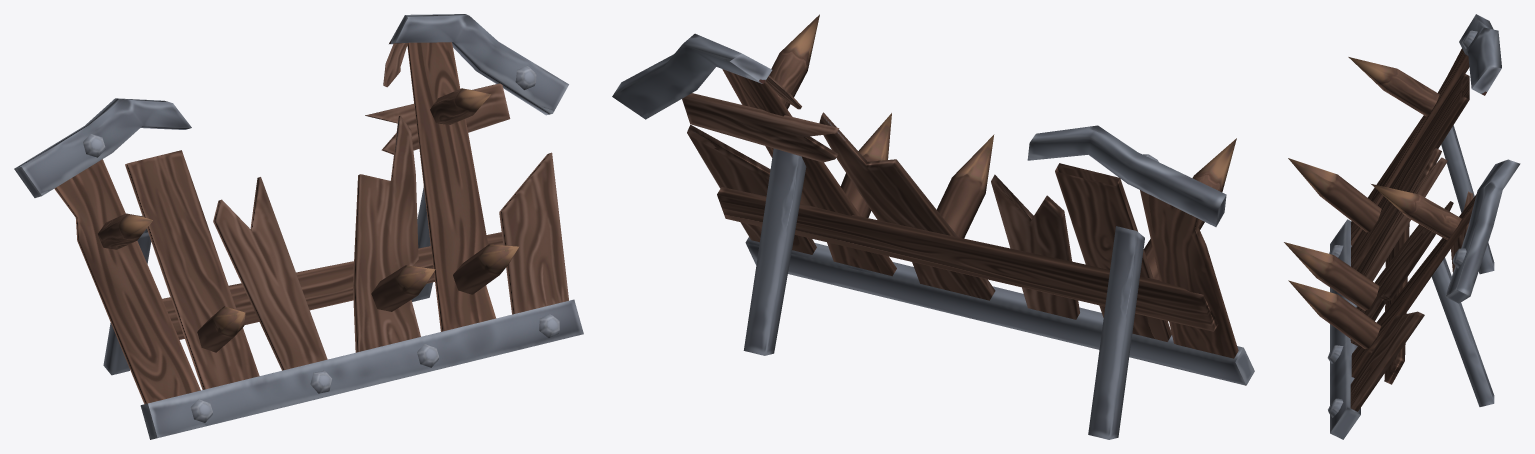
File: env_BarricadeDestroyed.fbx
3 views of the same model, side by side, from view 1: azimuth 30°, elevation 25°; view 2: azimuth 150°, elevation 25°; view 3: azimuth 270°, elevation 25° (orthographic). The views are drawn at different scales.
Parts seen in each view (by area): view 1: metal01, wood05, wood02, wood01, wood04, wood03, wood06, metal03, metal02, wood09, wood08, spike04 (+7 smaller); view 2: wood09, metal01, wood04, wood01, metal05, metal02, metal04, wood02, metal03, wood08, wood03, wood05 (+5 smaller); view 3: metal03, wood02, metal01, metal05, wood05, spike03, wood06, spike02, spike04, wood03, metal02, wood04 (+6 smaller).
Boxes of the visible parts, left/top/right/bottom form: metal01: left=140, top=299, right=583, bottom=439; wood05: left=407, top=42, right=496, bottom=331; wood02: left=125, top=150, right=259, bottom=389; wood01: left=54, top=159, right=200, bottom=404; wood04: left=353, top=115, right=420, bottom=352; wood03: left=213, top=177, right=327, bottom=370; wood06: left=499, top=152, right=568, bottom=314; metal03: left=389, top=14, right=568, bottom=115; metal02: left=14, top=98, right=191, bottom=197; wood09: left=162, top=232, right=503, bottom=339; wood08: left=365, top=83, right=510, bottom=154; spike04: left=453, top=244, right=518, bottom=294; wood09: left=717, top=187, right=1218, bottom=331; metal01: left=745, top=237, right=1254, bottom=385; wood04: left=819, top=112, right=995, bottom=300; wood01: left=1140, top=190, right=1238, bottom=358; metal05: left=743, top=148, right=806, bottom=355; metal02: left=1027, top=125, right=1226, bottom=226; metal04: left=1088, top=226, right=1144, bottom=439; wood02: left=1055, top=163, right=1171, bottom=341; metal03: left=612, top=33, right=772, bottom=119; wood08: left=682, top=93, right=839, bottom=162; wood03: left=991, top=174, right=1079, bottom=319; wood05: left=722, top=69, right=896, bottom=276; metal03: left=1445, top=159, right=1520, bottom=303; wood02: left=1351, top=72, right=1469, bottom=271; metal01: left=1327, top=219, right=1360, bottom=439; metal05: left=1431, top=258, right=1494, bottom=406; wood05: left=1351, top=194, right=1476, bottom=377; spike03: left=1284, top=242, right=1379, bottom=310; wood06: left=1350, top=311, right=1424, bottom=411; spike02: left=1288, top=158, right=1381, bottom=232; spike04: left=1288, top=280, right=1380, bottom=348; wood03: left=1358, top=148, right=1447, bottom=281; metal02: left=1459, top=14, right=1501, bottom=95; wood04: left=1350, top=201, right=1453, bottom=345.
Size of the model in its own units: 244 by 117 by 102.
